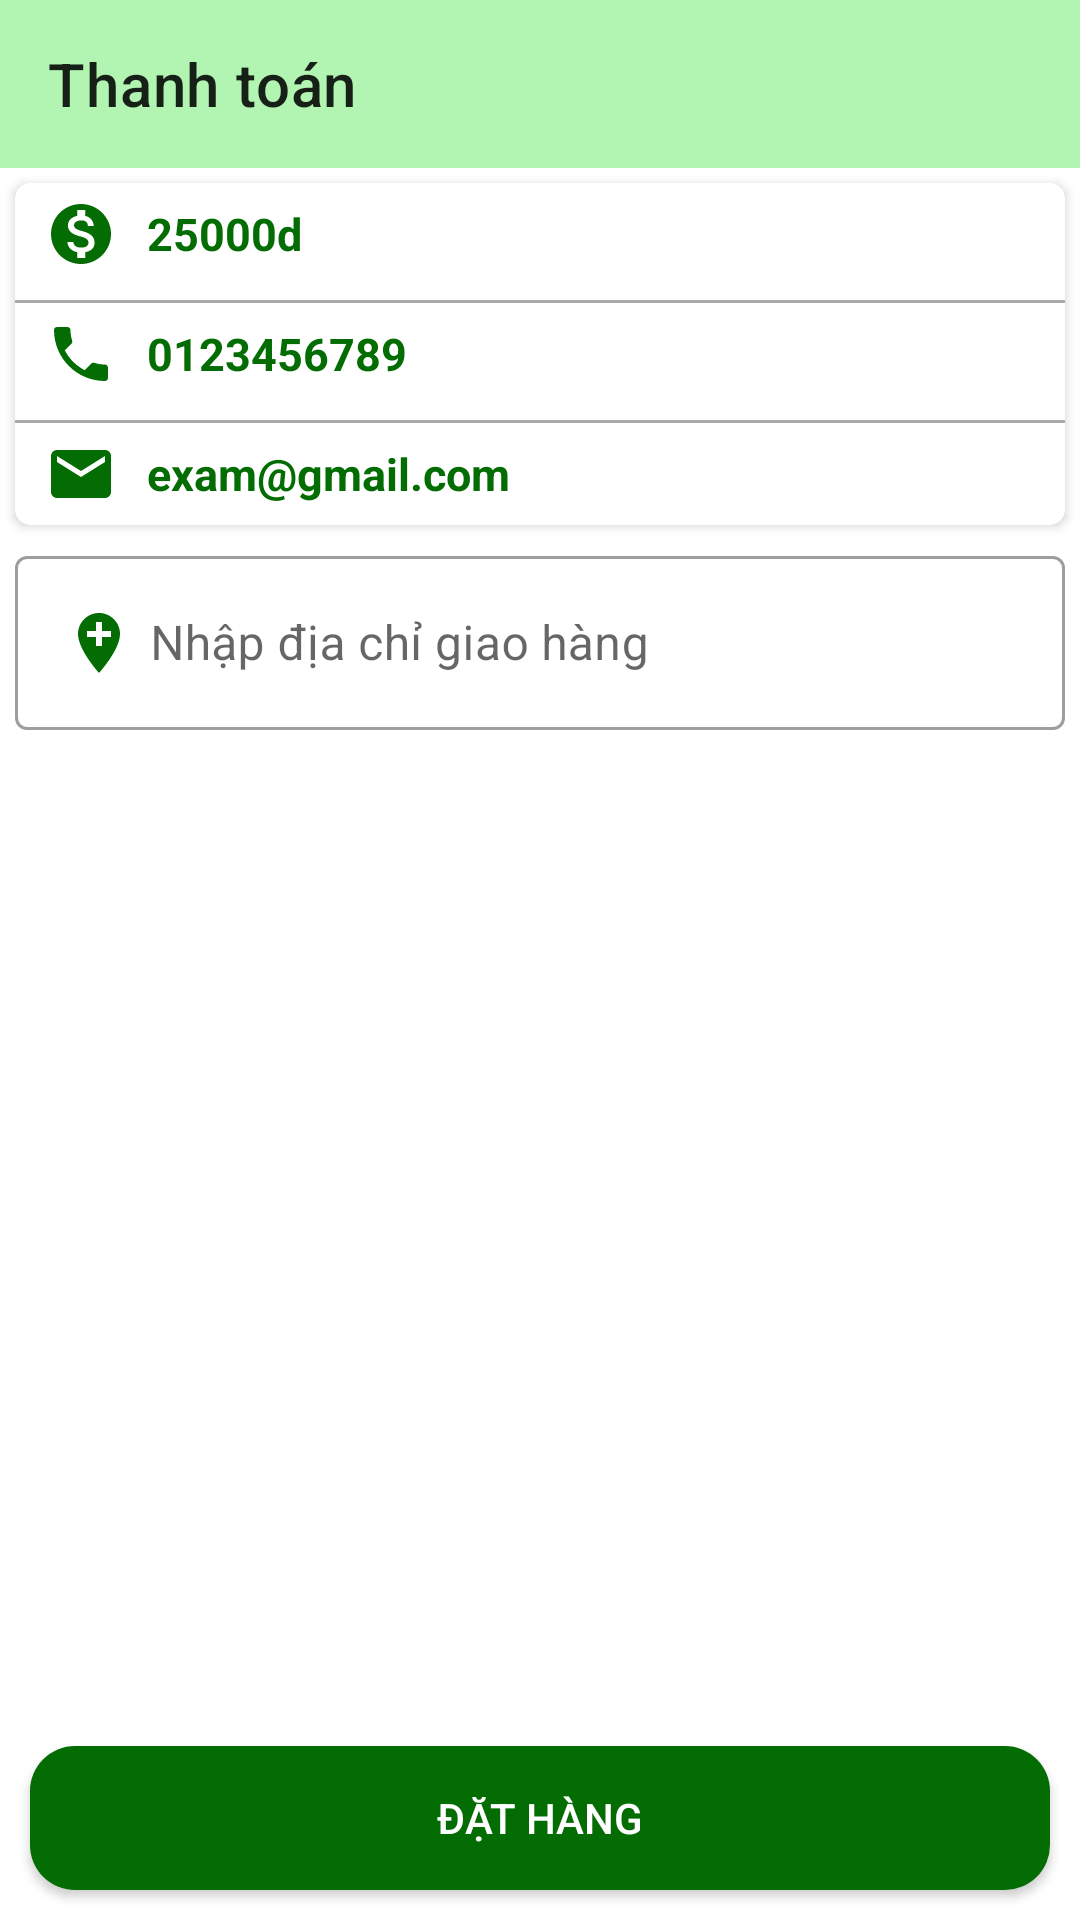

Icon bounding boxes for this 1080 x 1920 phone screenshot, format detection(x1, y1, x2, y2):
email: detection(51, 450, 111, 498)
phone: detection(54, 327, 108, 381)
